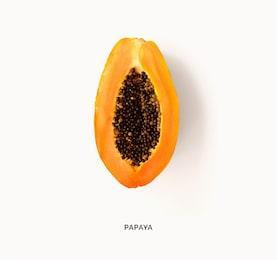papaya: (93, 37, 183, 188)
